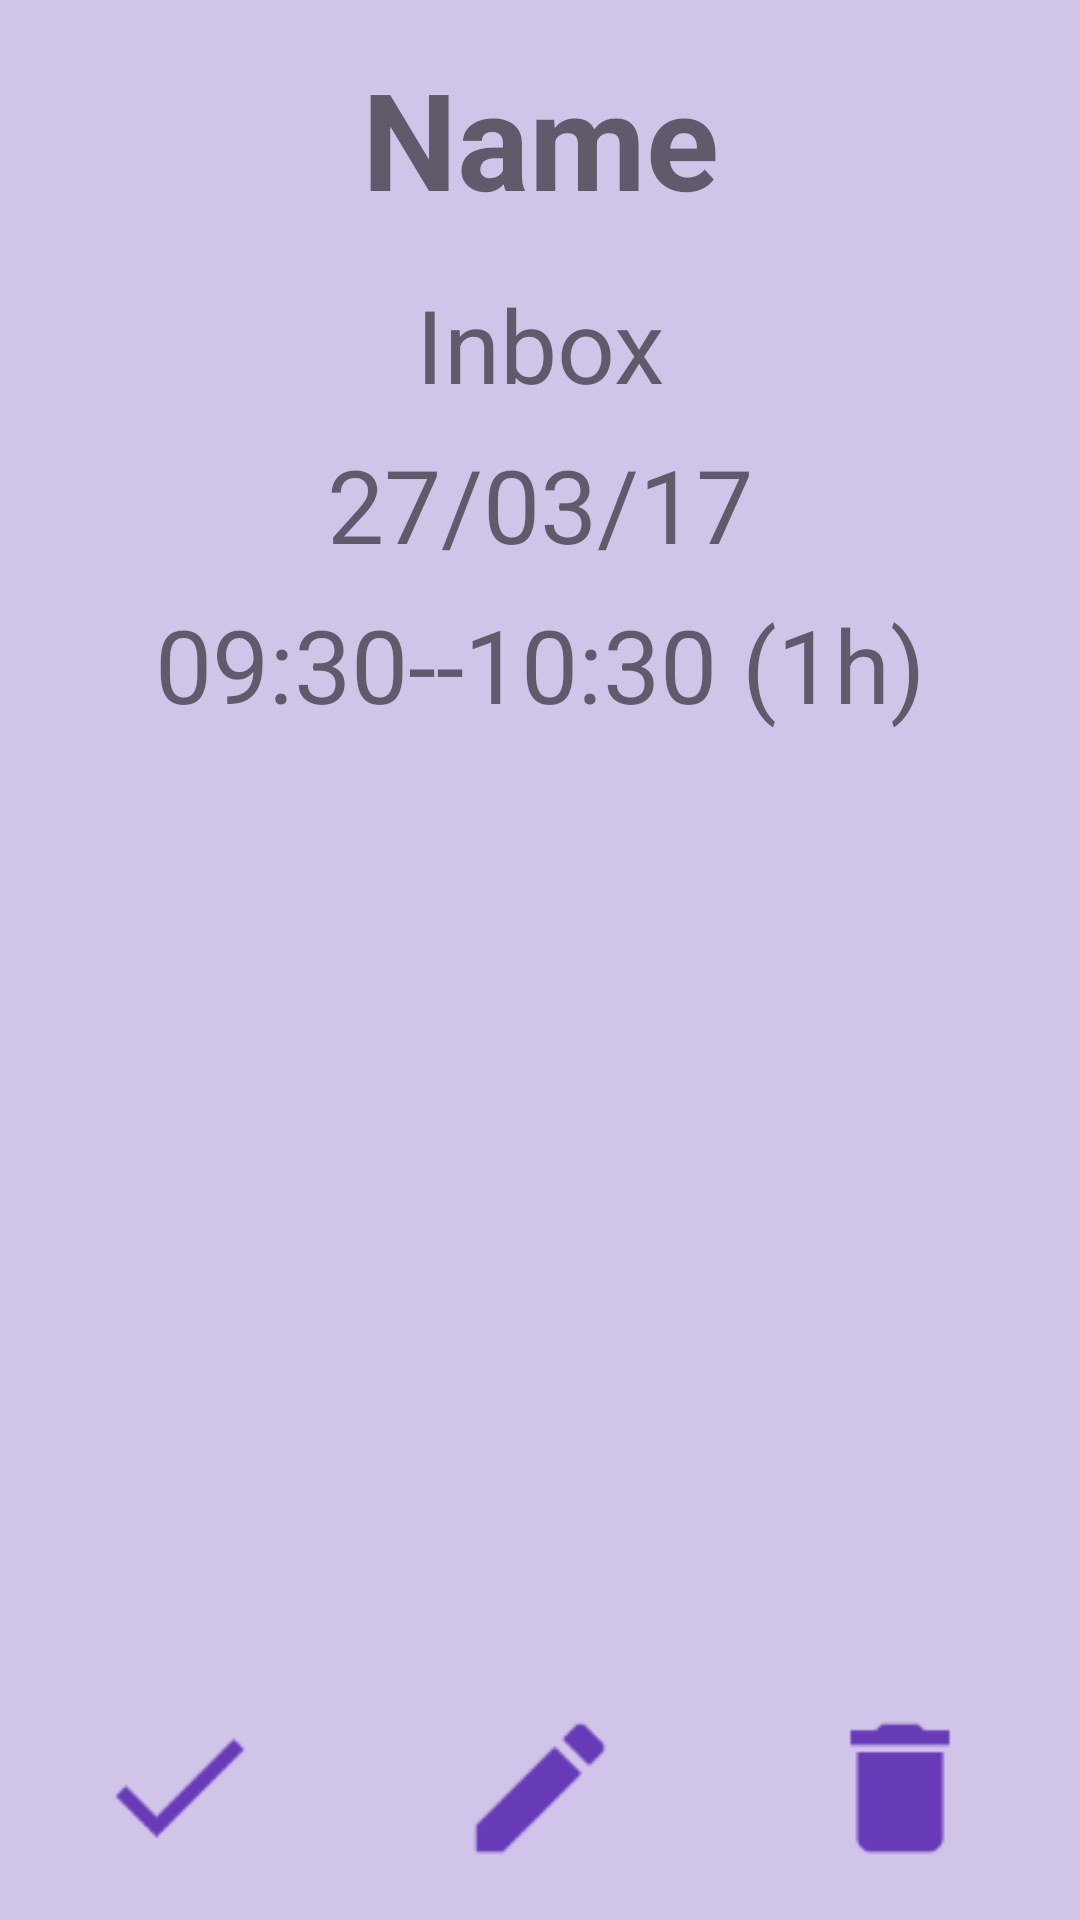

Named icons in this screenshot (1080 x 1920) and their bounding boxes, (x1, y1, x2, y2):
delete: (850, 1723, 950, 1854)
done: (116, 1738, 244, 1838)
edit: (475, 1723, 606, 1854)
